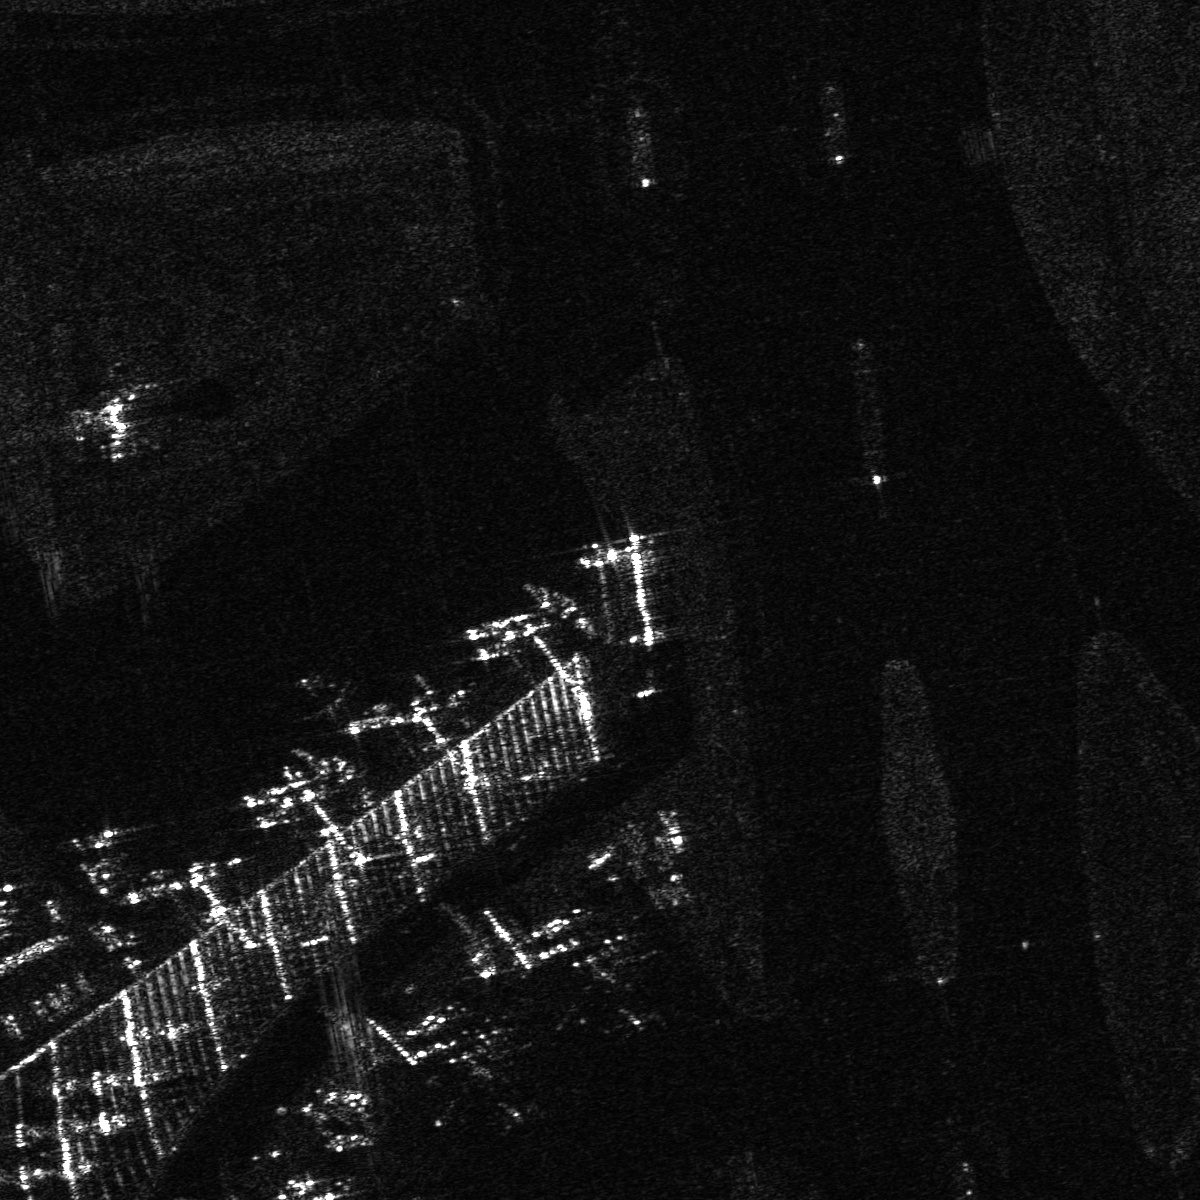Boeing787: (436, 1038, 534, 1125), (293, 669, 356, 722)
other: (555, 944, 659, 1031)
